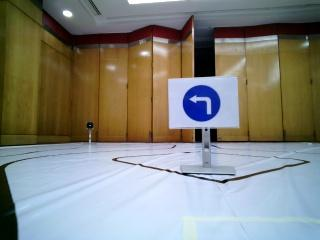left: (173, 82, 229, 122)
